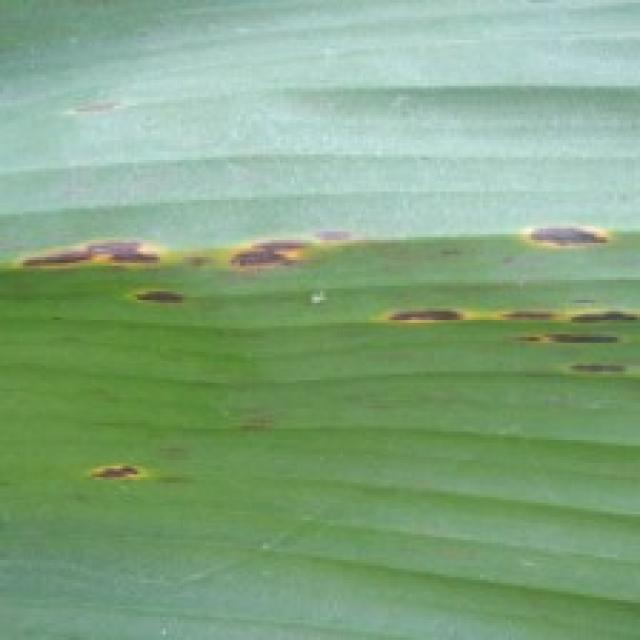Early_leaf_spot: (380, 274, 640, 409), (0, 210, 195, 328), (219, 176, 368, 303), (478, 200, 614, 271), (70, 442, 193, 501), (52, 69, 142, 131)
